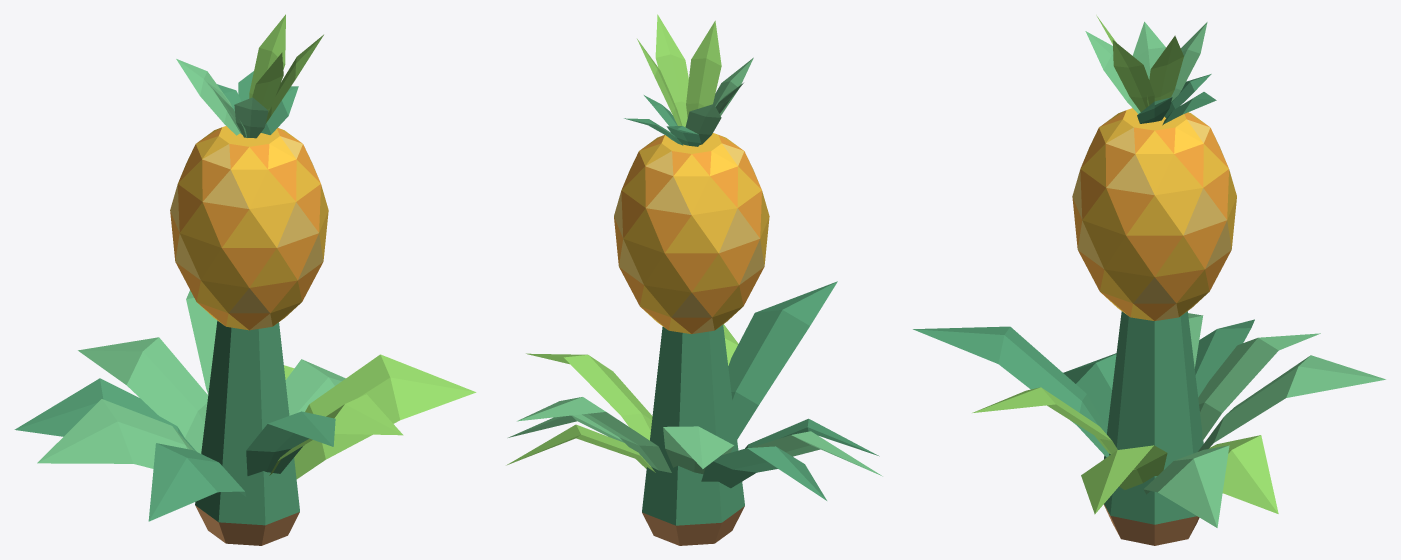
Rendered from 18-pineapple.glb.
The picture shows the model from 3 angles, left to right: view 1: azimuth 30°, elevation 25°; view 2: azimuth 150°, elevation 25°; view 3: azimuth 270°, elevation 25°; orthographic projection. The views are drawn at different scales.
Visible parts, largest first — view 1: 18-pineapple_Body; view 2: 18-pineapple_Body; view 3: 18-pineapple_Body.
Boxes of the visible parts, left/top/right/bottom form: 18-pineapple_Body: left=14, top=14, right=476, bottom=545; 18-pineapple_Body: left=506, top=14, right=882, bottom=545; 18-pineapple_Body: left=913, top=15, right=1385, bottom=545.
Size of the model in its own units: 0.544 by 0.6412 by 0.5343.
1 material, 1 textured.
